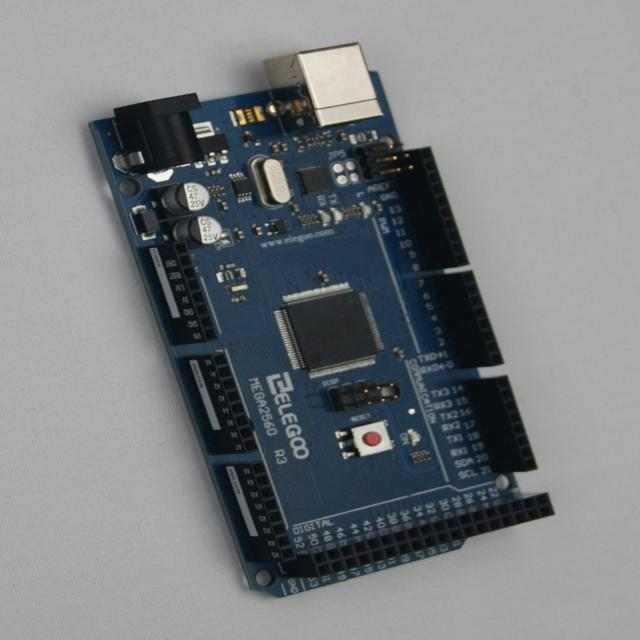Arduino Mega 2560 -Blue-: (91, 44, 553, 597)
